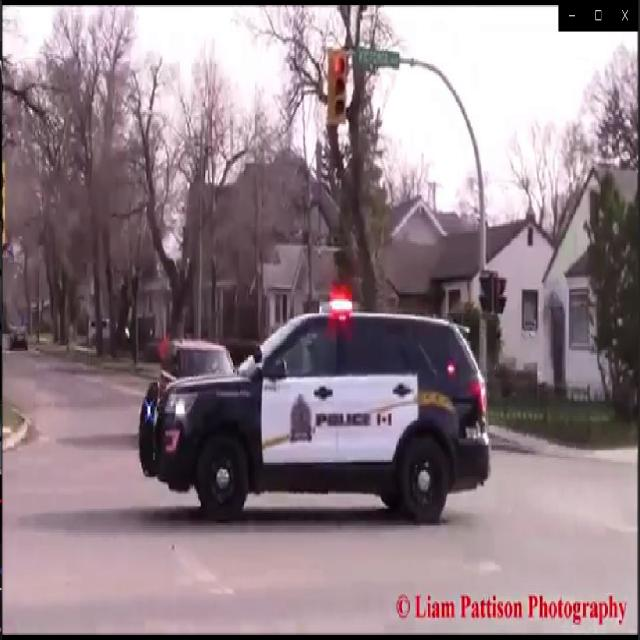emergency: (140, 286, 492, 512)
